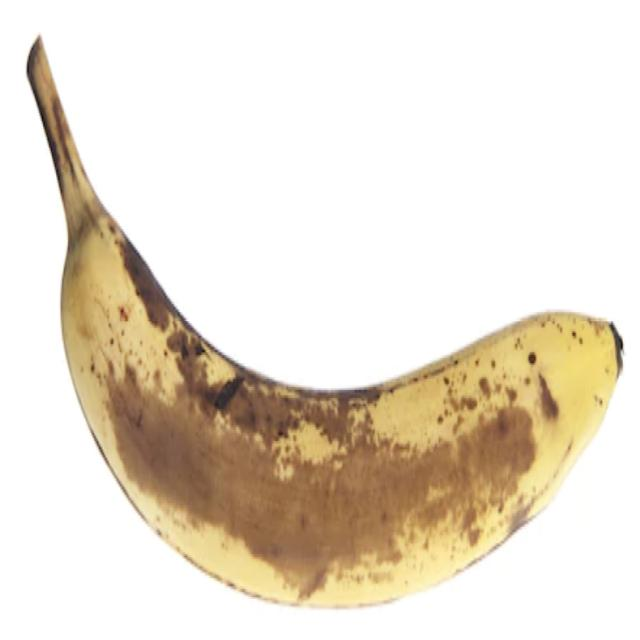rotten-banana: (24, 30, 625, 610)
